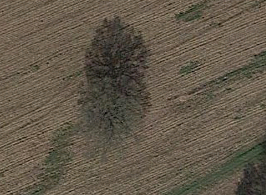tree: (70, 60, 157, 176)
